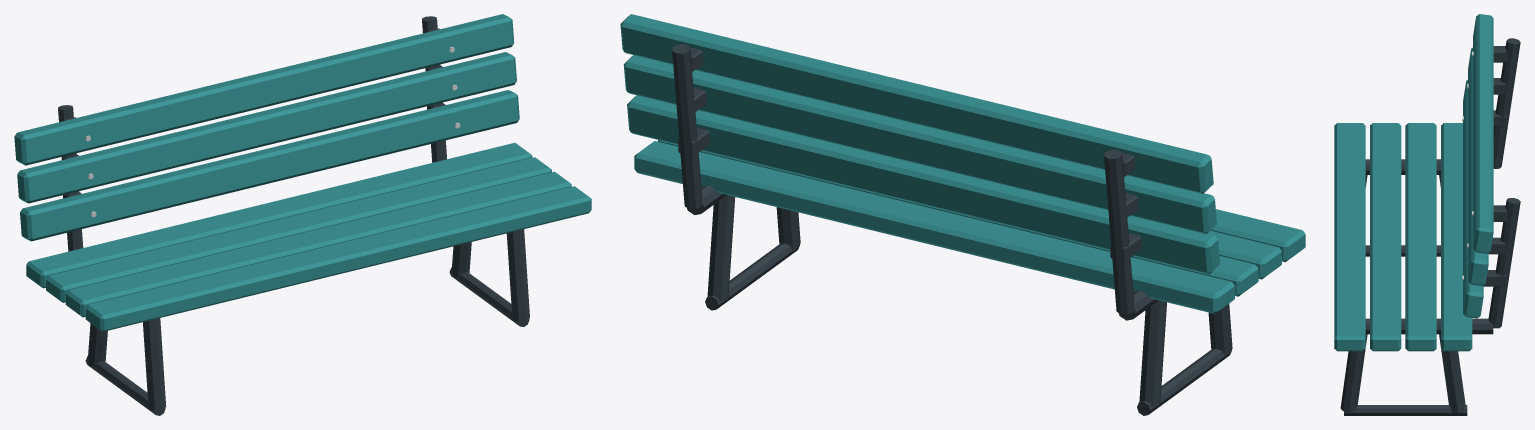
The model's file is Bench_Transit.glb.
3 views of the same model, side by side, from view 1: azimuth 30°, elevation 25°; view 2: azimuth 150°, elevation 25°; view 3: azimuth 270°, elevation 25° (orthographic). The views are drawn at different scales.
Parts seen in each view (by area): view 1: Bench_Transit; view 2: Bench_Transit; view 3: Bench_Transit.
Boxes of the visible parts, x1,y1,x2,y2 form: Bench_Transit: (14, 14, 591, 415); Bench_Transit: (620, 14, 1305, 415); Bench_Transit: (1334, 14, 1520, 415).
Size of the model in its own units: 2.15 by 1 by 0.7857.
